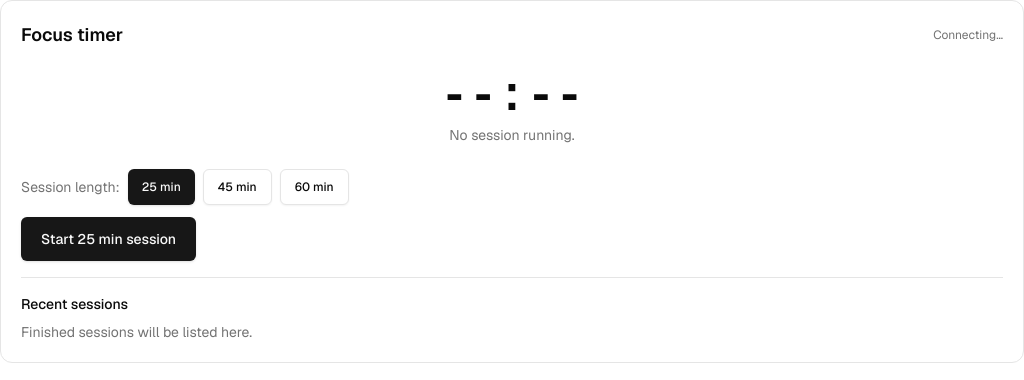
Test: FocusTimer › starts a session with the selected duration
Step 1. Click the button "Start 25 min session" → click(109, 239), box [21,217,196,261]
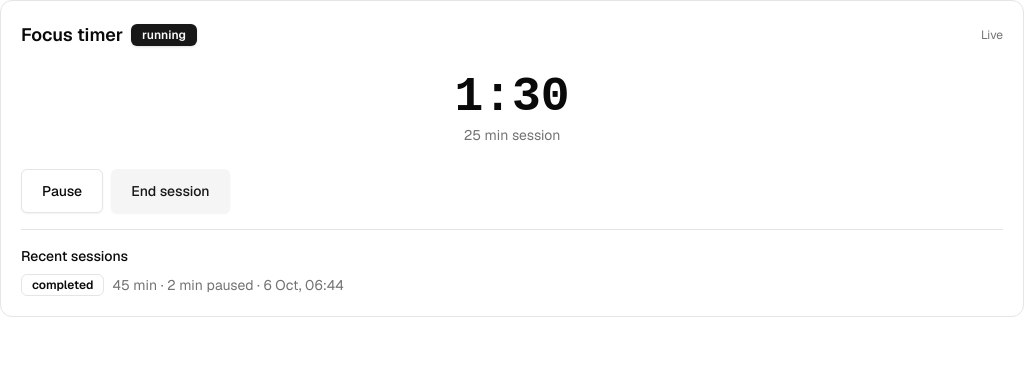
Now the button "Pause" is shown, box [21,169,103,213]
